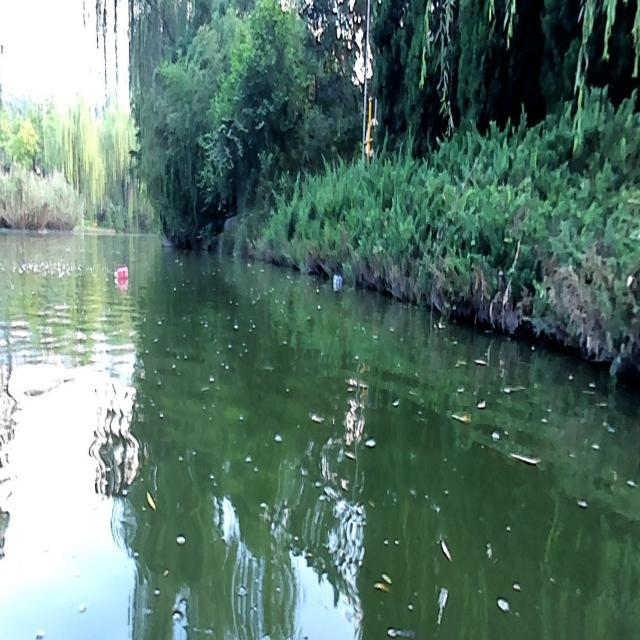bottle: (113, 265, 129, 281), (332, 273, 344, 288)
